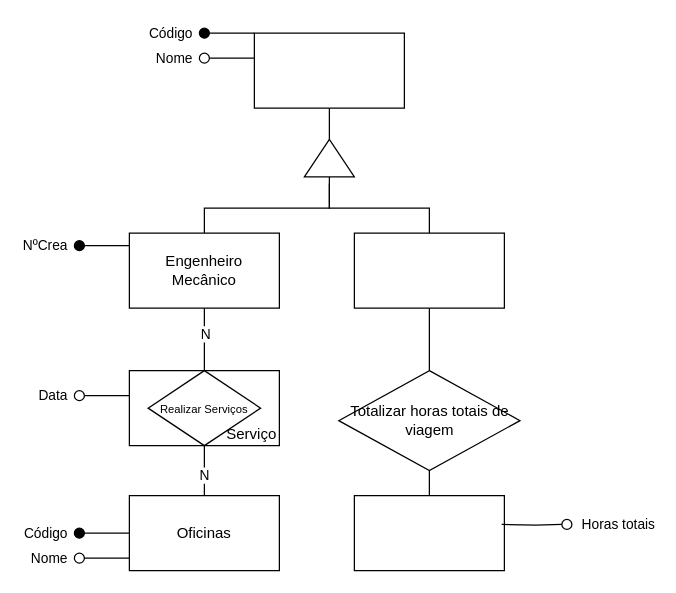
Image size: 676x593. Some labels were removed from this diagram. Each missing label, with the centre of its shape:
"Funcionários" belongs at point (328, 70).
"Maquinista" belongs at point (428, 270).
"Viagem" belongs at point (428, 532).
